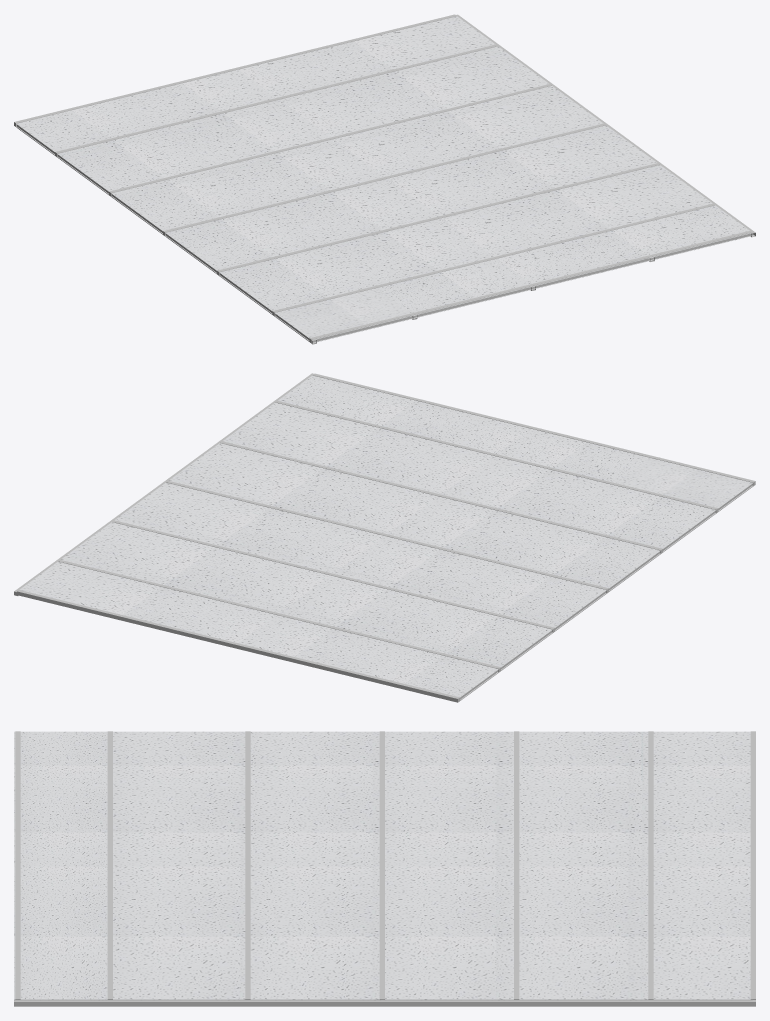
The model's file is Ceiling.FBX.
3 views of the same model, one above another, from view 1: azimuth 30°, elevation 25°; view 2: azimuth 150°, elevation 25°; view 3: azimuth 270°, elevation 25° (orthographic). The views are drawn at different scales.
Parts seen in each view (by area): view 1: Ceiling; view 2: Ceiling; view 3: Ceiling.
Part boxes in pixels (<box>): Ceiling: <box>14,14,755,344</box>; Ceiling: <box>14,373,755,702</box>; Ceiling: <box>14,731,755,1006</box>.
Bounding box in the file's own units: 528 × 5.18 × 615.
